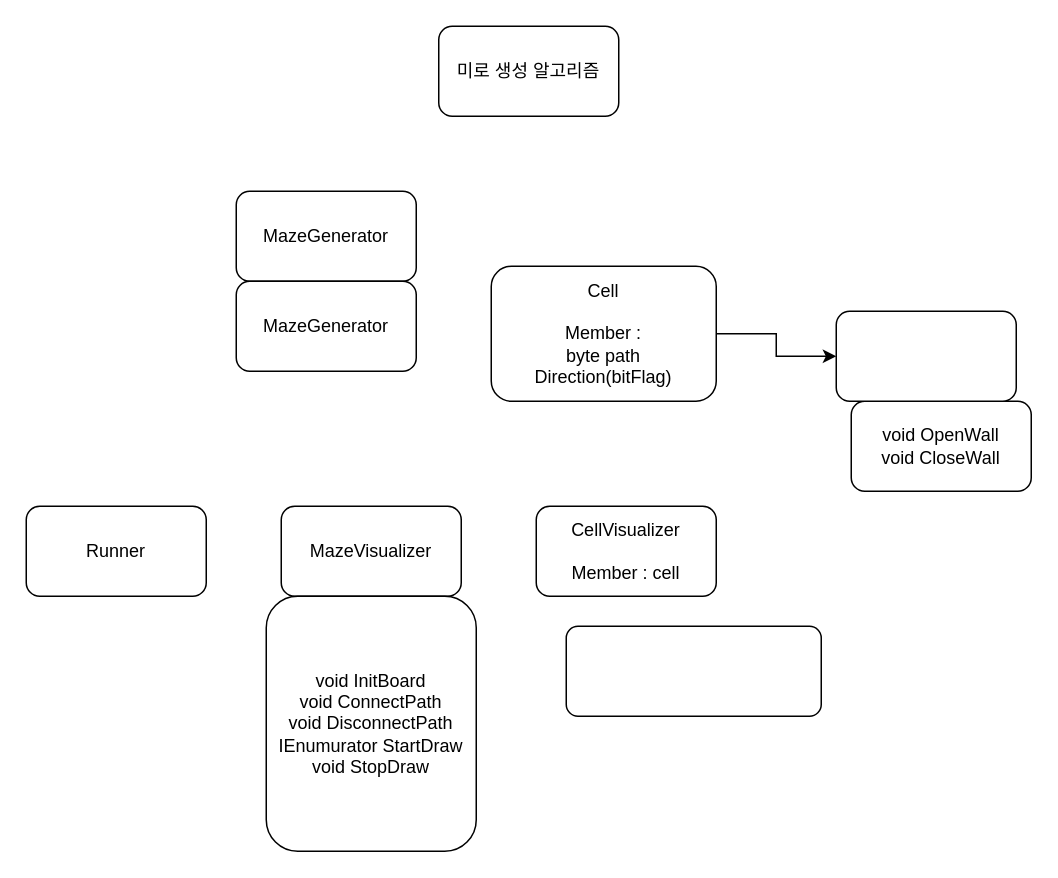
The diagram is 1058 pixels wide and 878 high, and some of its shapes have lost their labels. The box of each missing label's shape, as (x1, y1, x2, y2) in pixels:
Cell 알고리즘별 상속: (835, 310, 1016, 401)
void OpenCell(Direction) void CloseCell(Direction): (565, 625, 821, 716)
